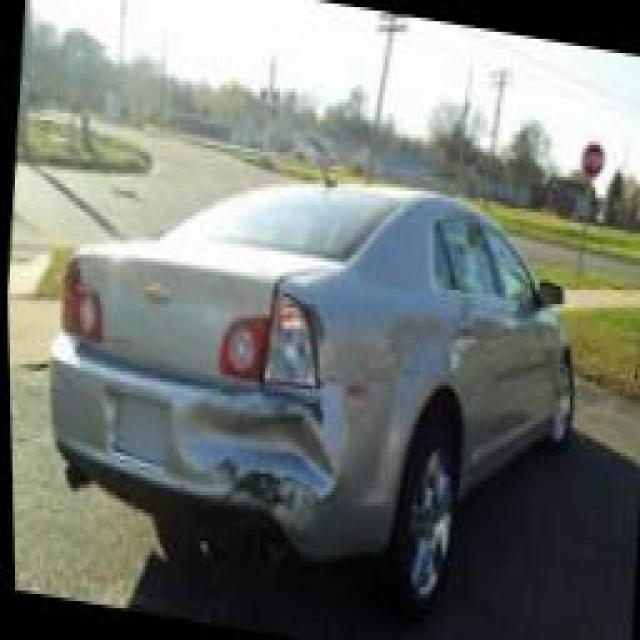Bumper: (184, 379, 354, 560)
Light: (264, 285, 315, 384)
